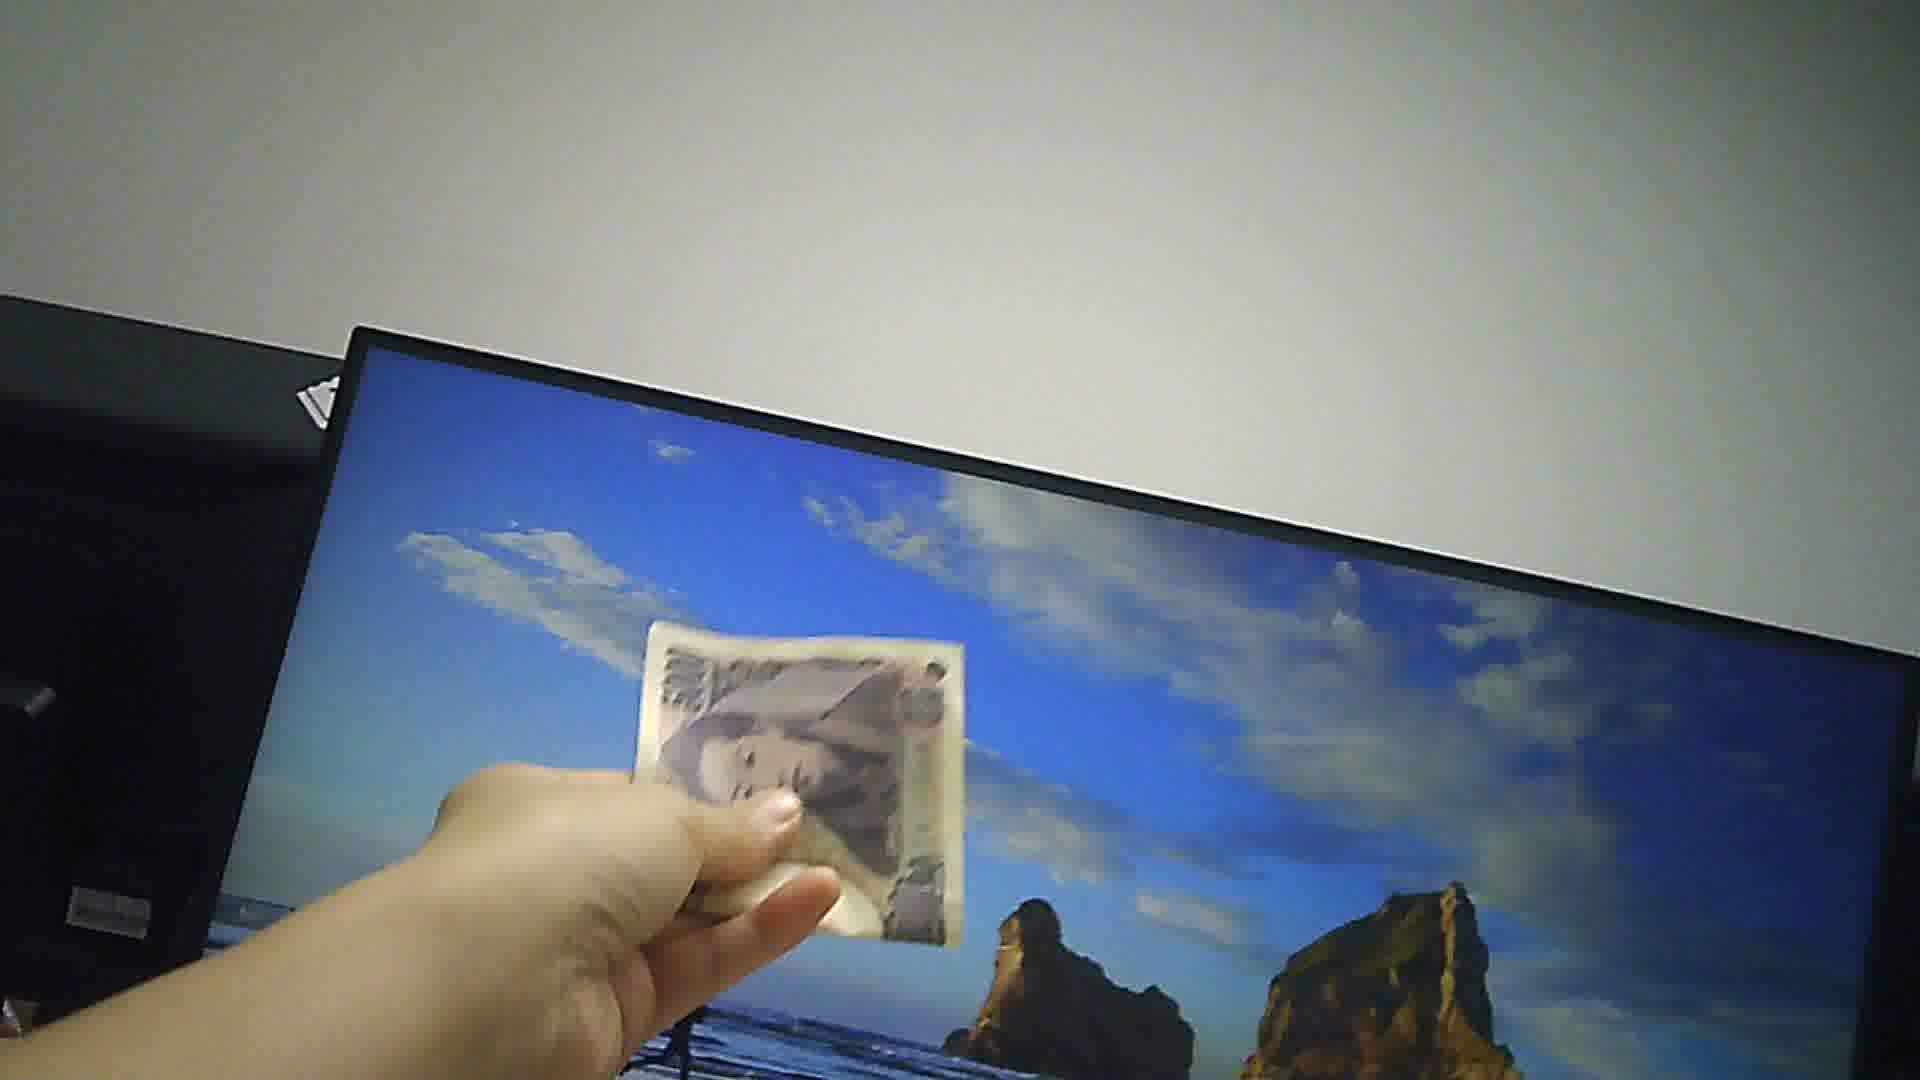5,000 Yen: (612, 613, 982, 945)
